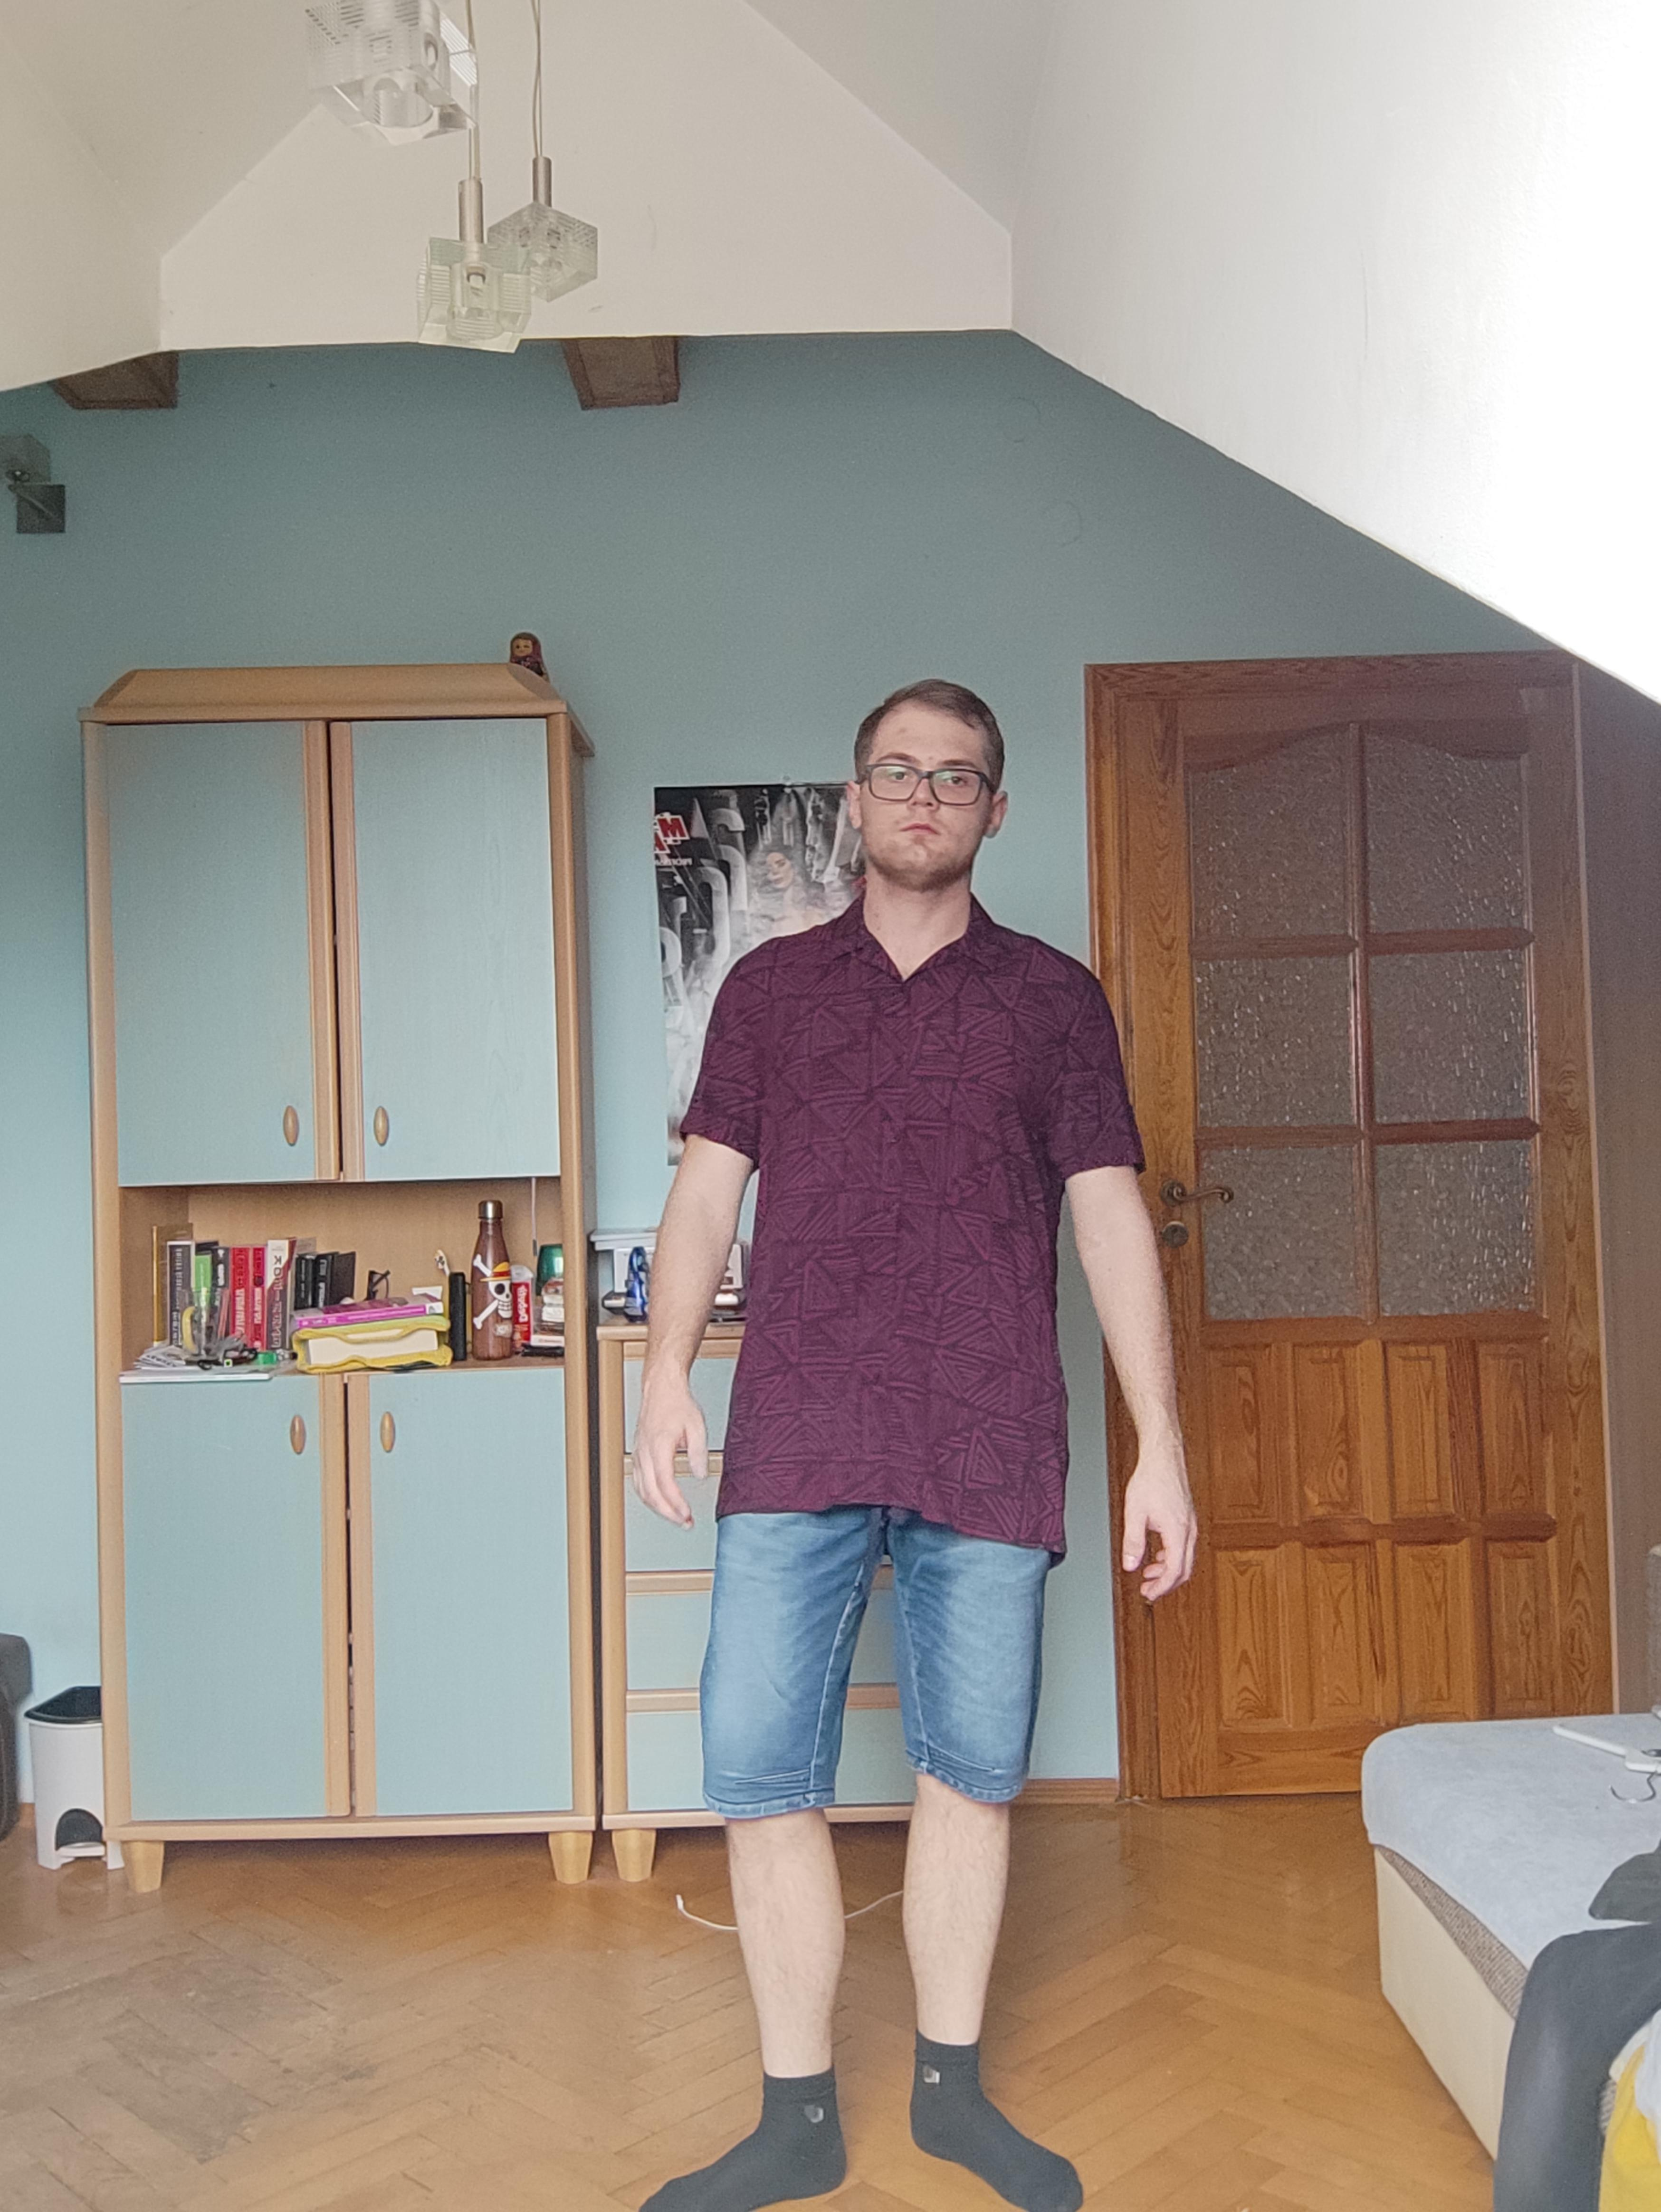shirt: (682, 891, 1146, 1558)
short: (698, 1397, 1054, 1814)
